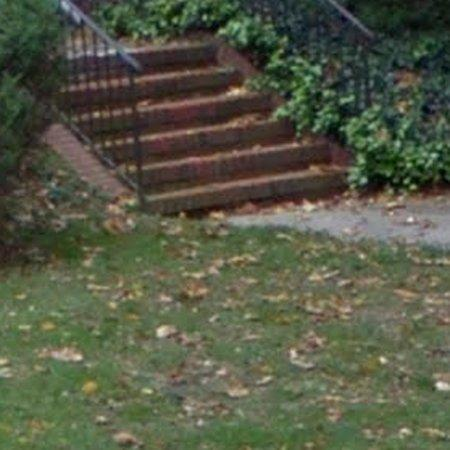stairs: (61, 21, 346, 213)
